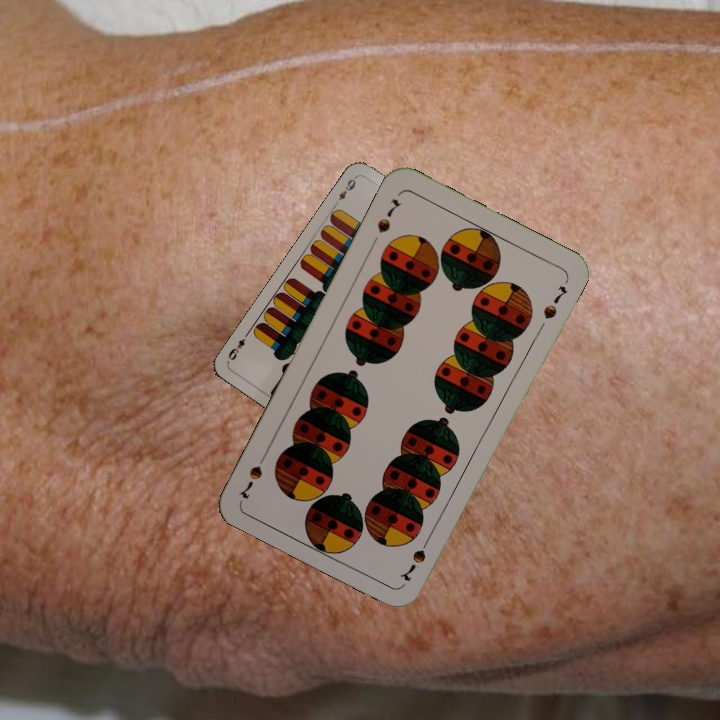E9: (331, 173, 359, 208)
S7: (396, 531, 434, 585), (373, 194, 404, 236)
